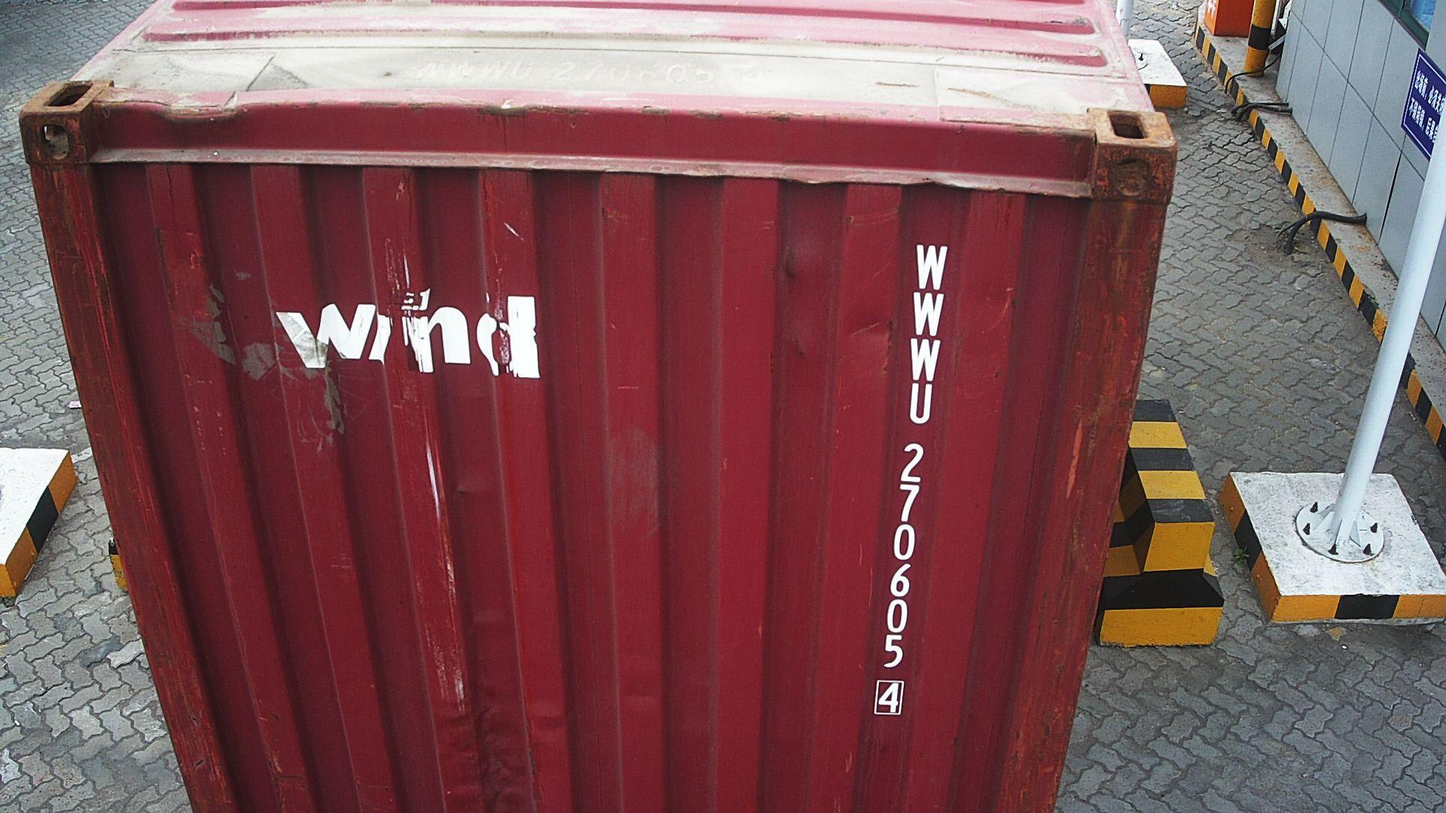container-numbers: (873, 239, 952, 726)
